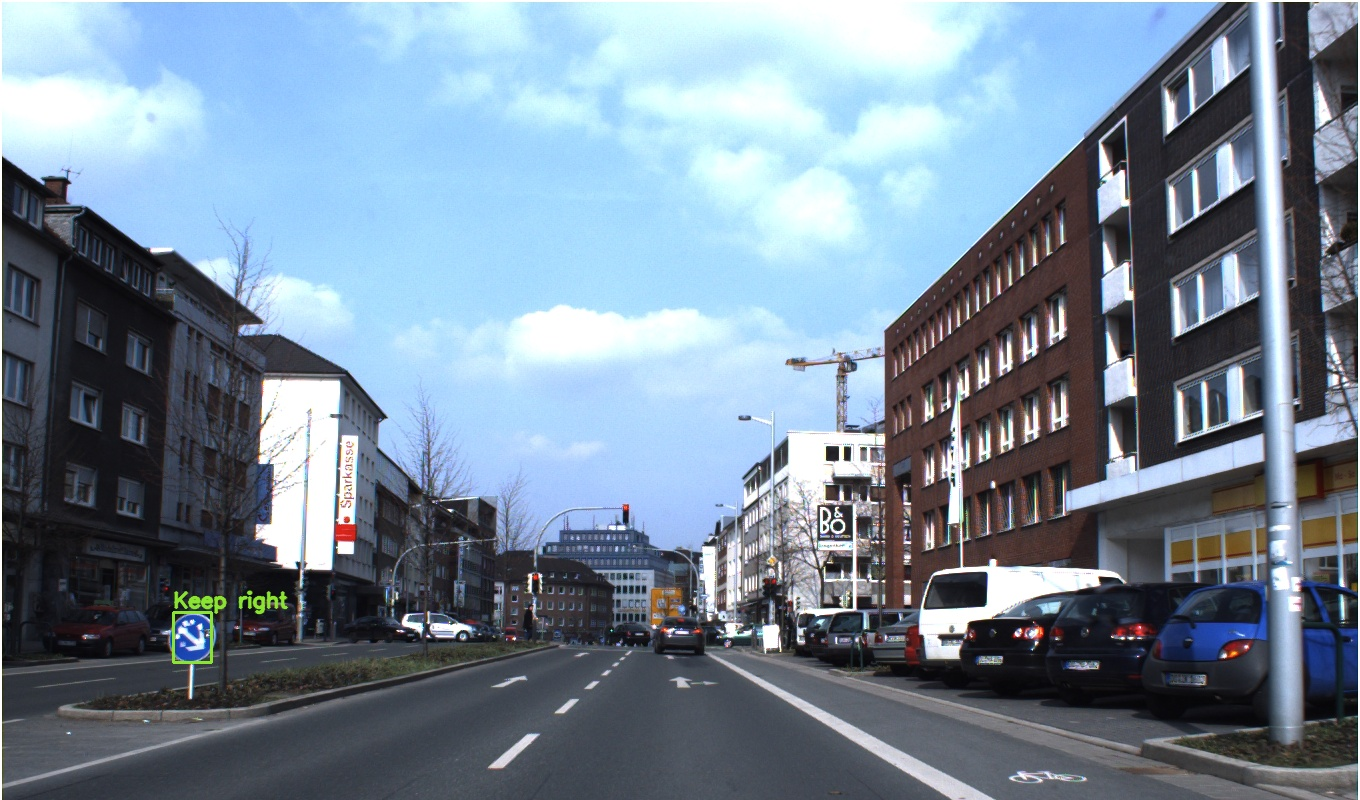General caution: (784, 398, 820, 430)
Right-of-way at the next intersection: (1040, 155, 1161, 268)
